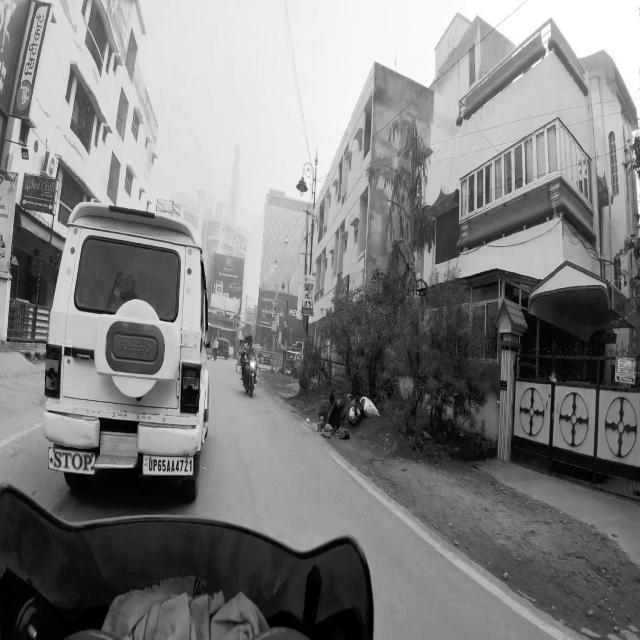Bike: (239, 326, 263, 403)
Car: (41, 180, 217, 514)
